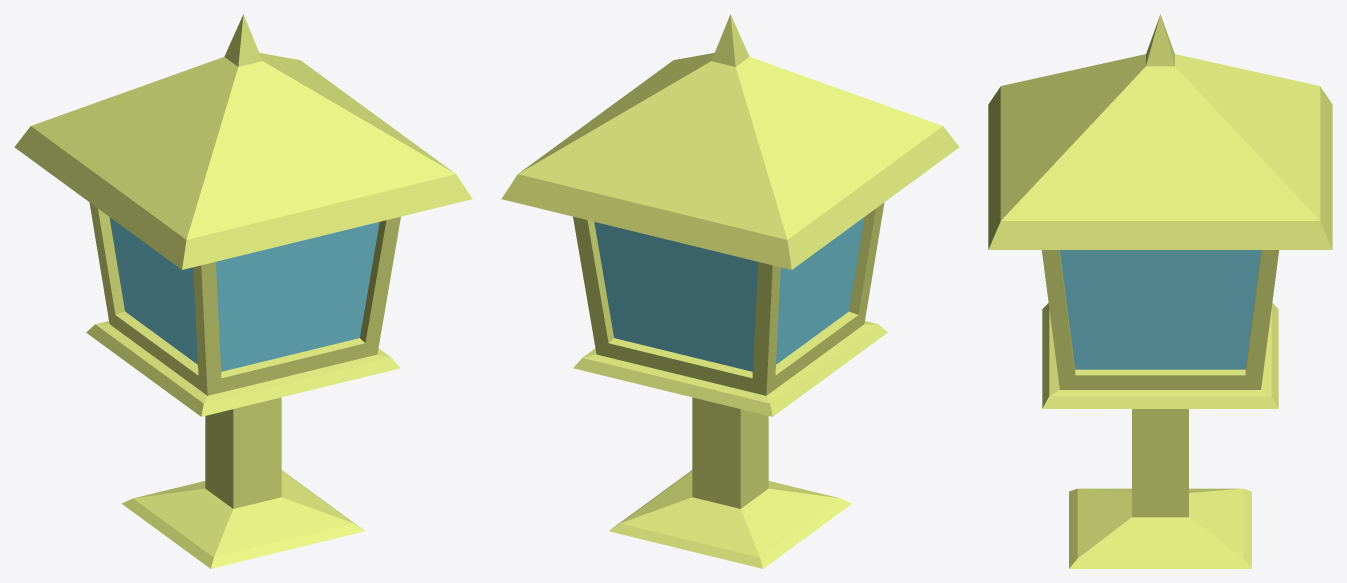
The model's file is Farolillo.fbx.
3 renders of one model, left to right at view 1: azimuth 30°, elevation 25°; view 2: azimuth 150°, elevation 25°; view 3: azimuth 270°, elevation 25°, orthographic. The views are drawn at different scales.
Visible parts, largest first — view 1: farolillo; view 2: farolillo; view 3: farolillo.
Boxes of the visible parts, x1,y1,x2,y2 form: farolillo: (14, 14, 472, 568); farolillo: (501, 14, 959, 568); farolillo: (988, 14, 1332, 568).
Size of the model in its own units: 24.02 by 39.77 by 24.02.
